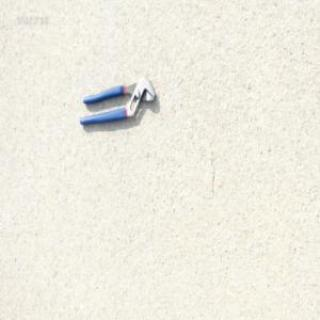Pliertrack_idkeyframe: (76, 74, 155, 127)
